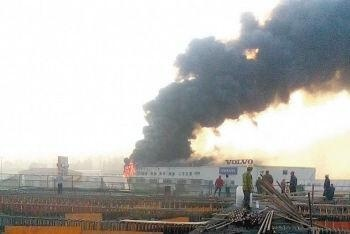fire: (189, 81, 350, 170), (123, 160, 136, 175)
